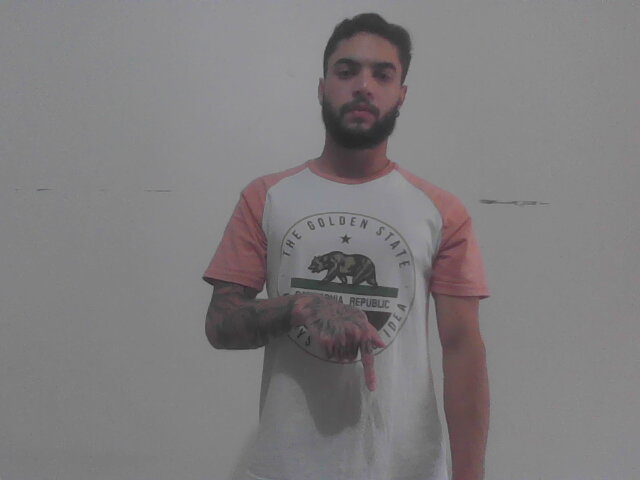q: (299, 284, 388, 393)
